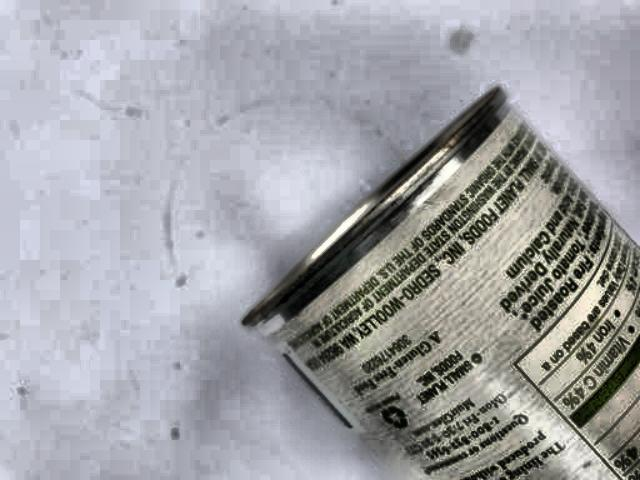Almennt: (212, 85, 640, 479)
